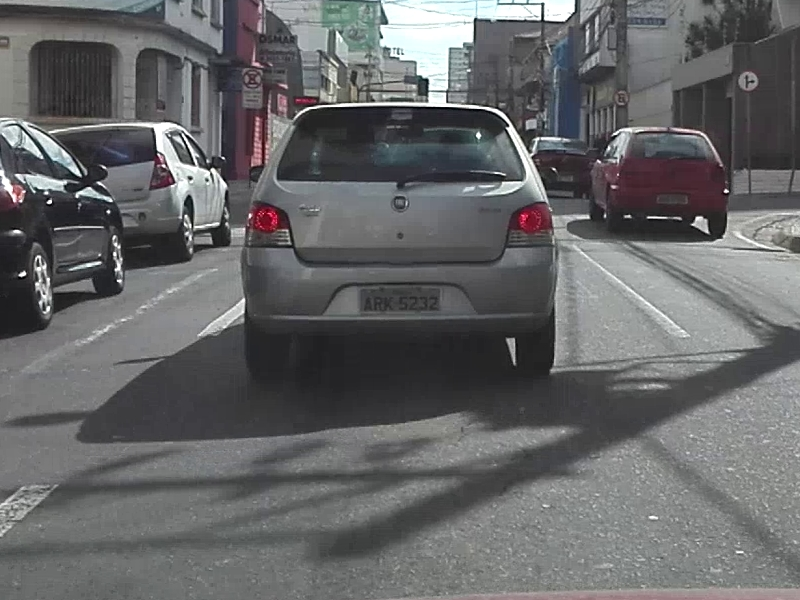placa: (359, 287, 442, 313)
